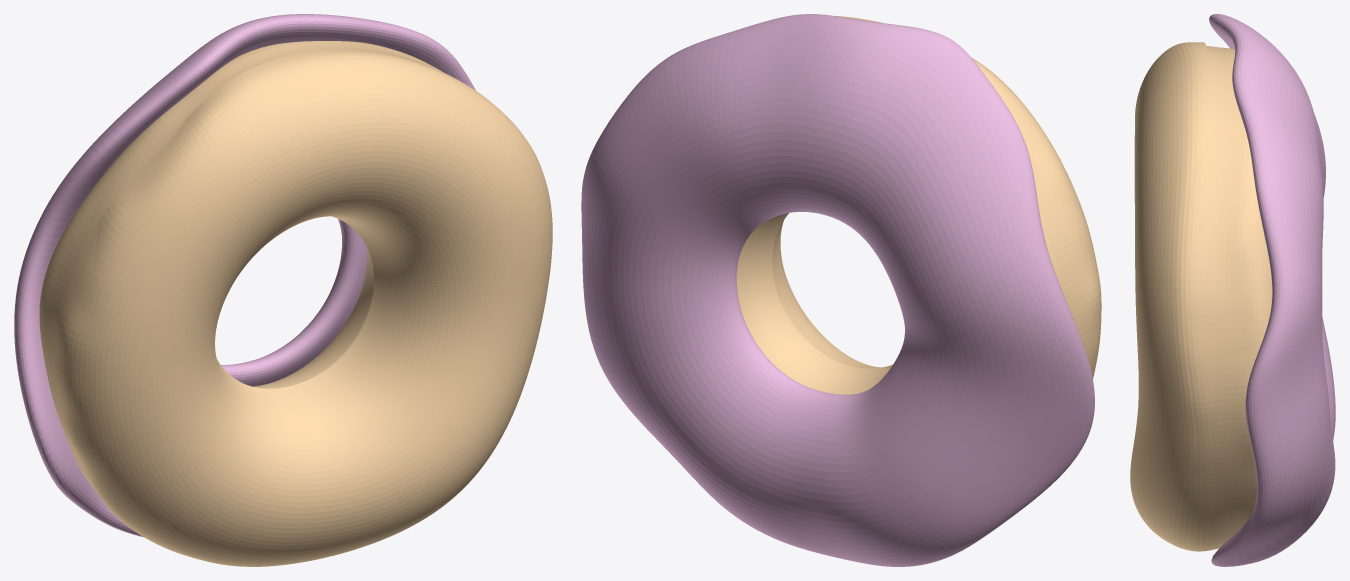
The model's file is food_2_donut.fbx.
3 renders of one model, left to right at view 1: azimuth 30°, elevation 25°; view 2: azimuth 150°, elevation 25°; view 3: azimuth 270°, elevation 25°, orthographic. The views are drawn at different scales.
Visible parts, largest first — view 1: food_donut; view 2: food_donut; view 3: food_donut.
Boxes of the visible parts, x1=… form: food_donut: x1=14, y1=14, x2=552, y2=566; food_donut: x1=581, y1=14, x2=1101, y2=566; food_donut: x1=1130, y1=14, x2=1335, y2=566.
Size of the model in its own units: 61.98 by 62.32 by 23.73.
